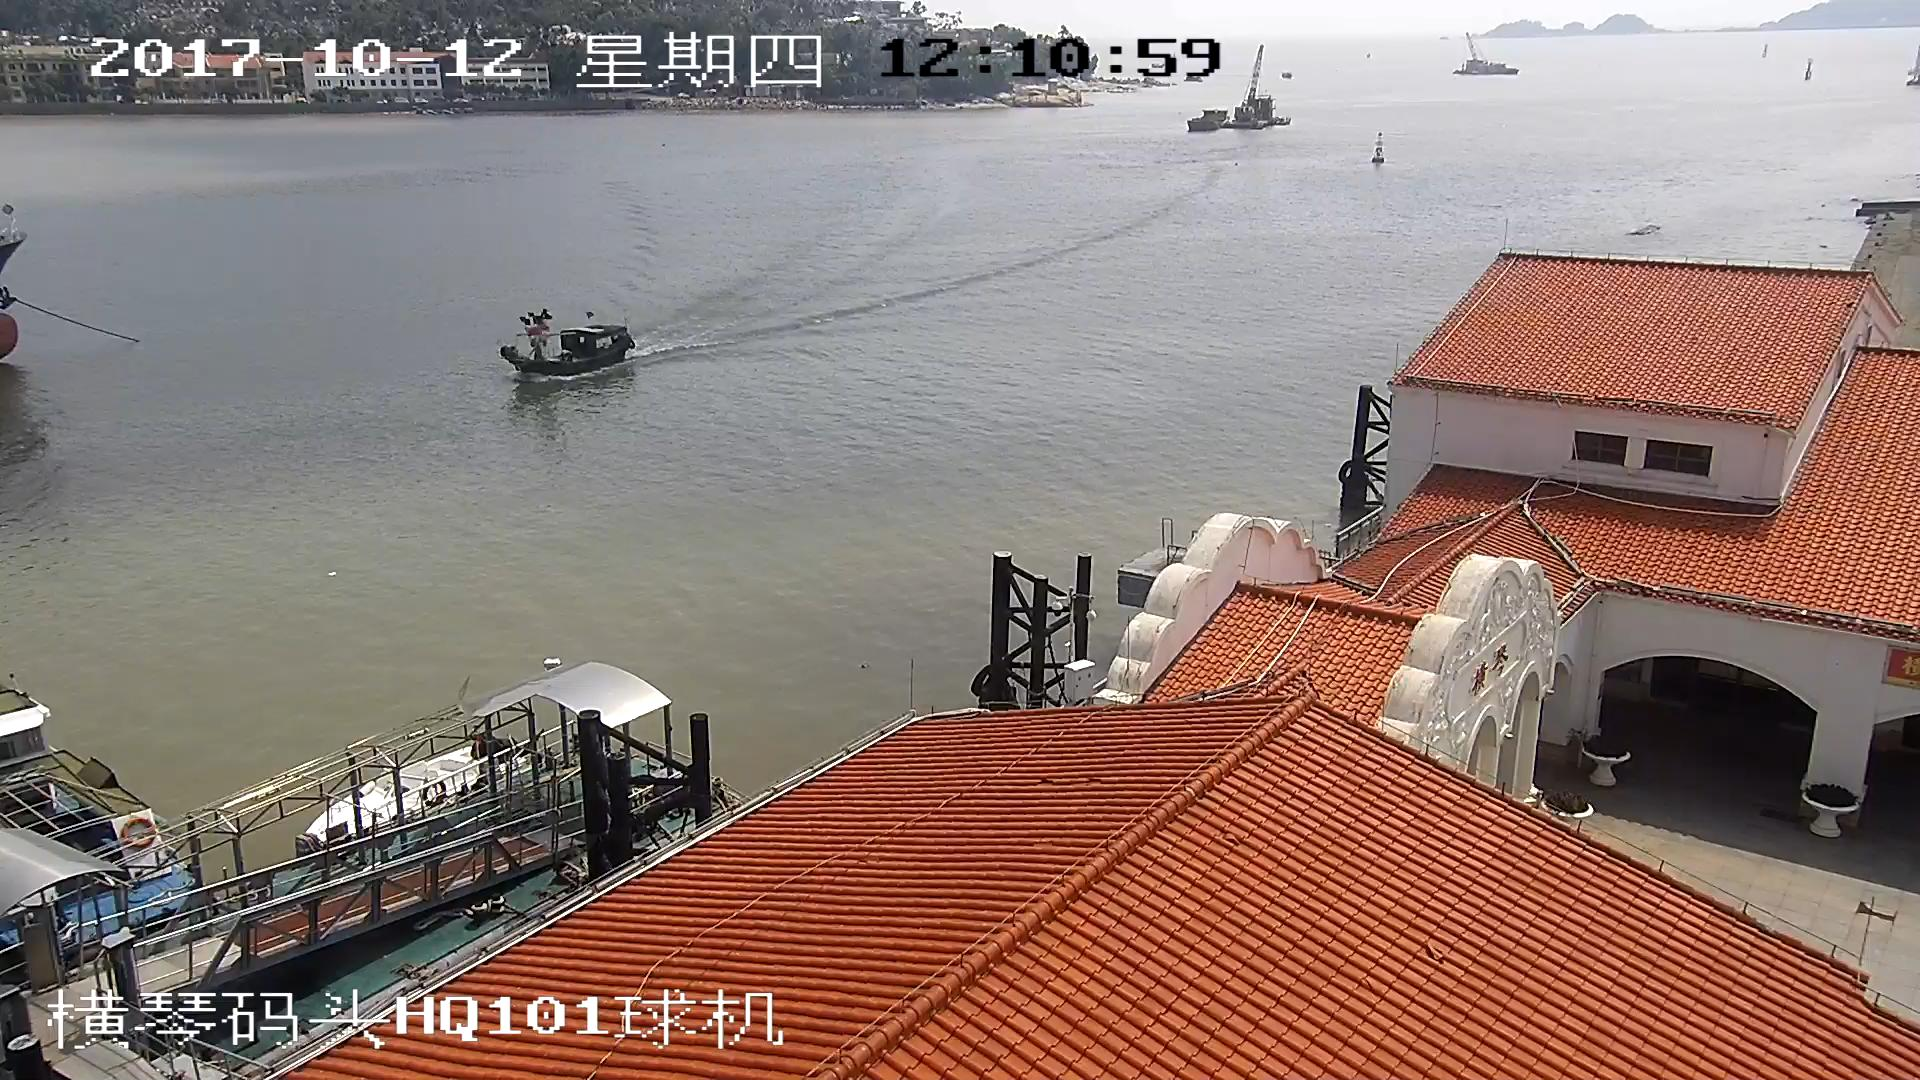fishing boat: (498, 310, 625, 370)
